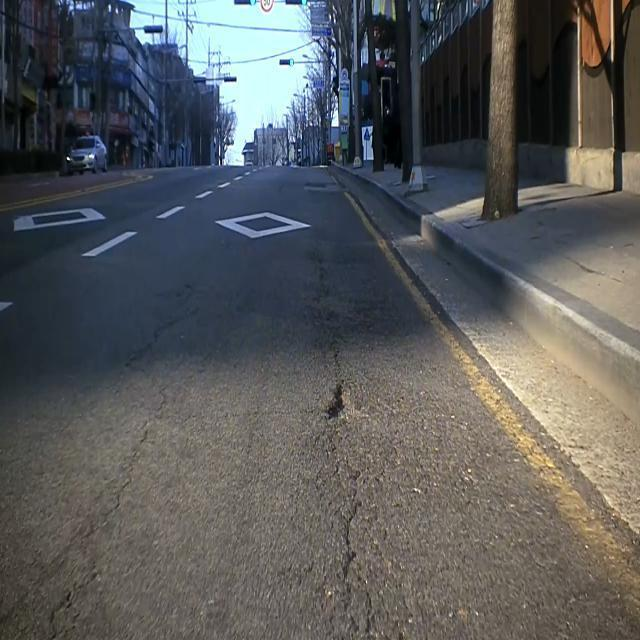pothole: (320, 376, 381, 439)
